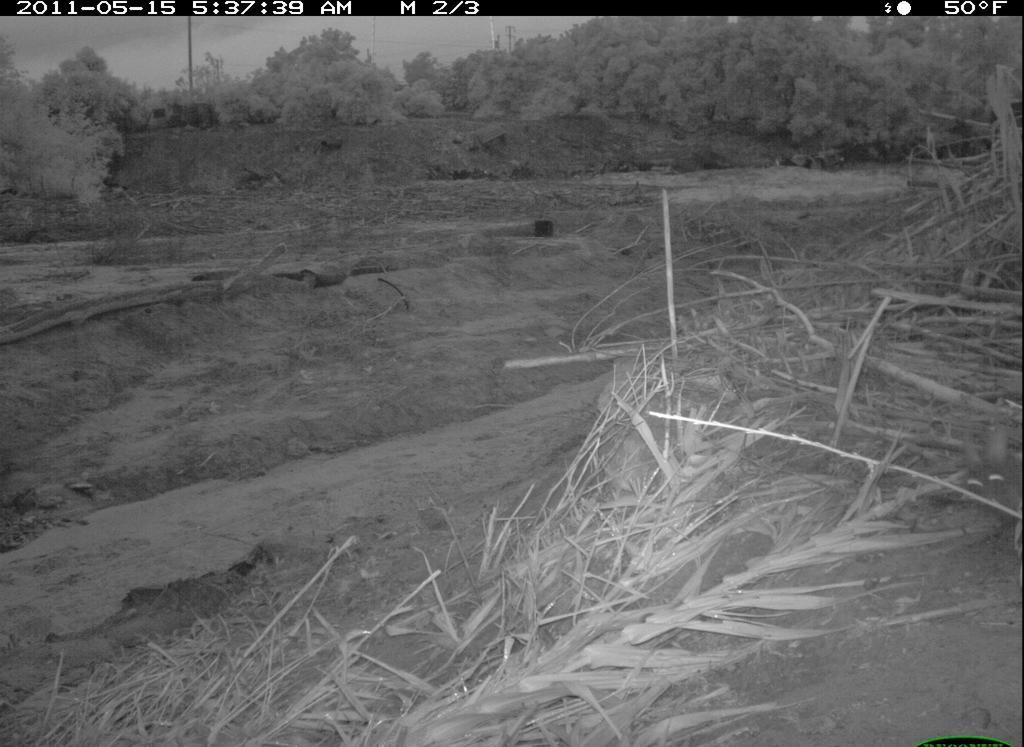rabbit: (954, 413, 1023, 545)
